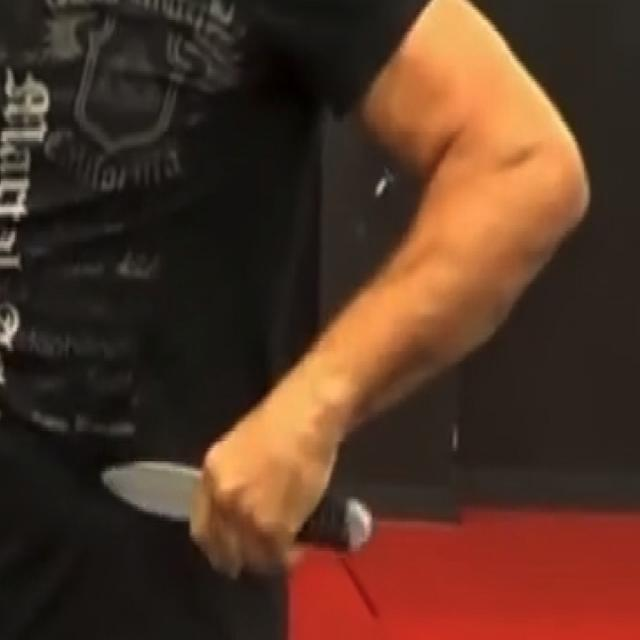suspicion: (87, 6, 593, 589), (92, 452, 192, 520), (316, 499, 379, 559)
